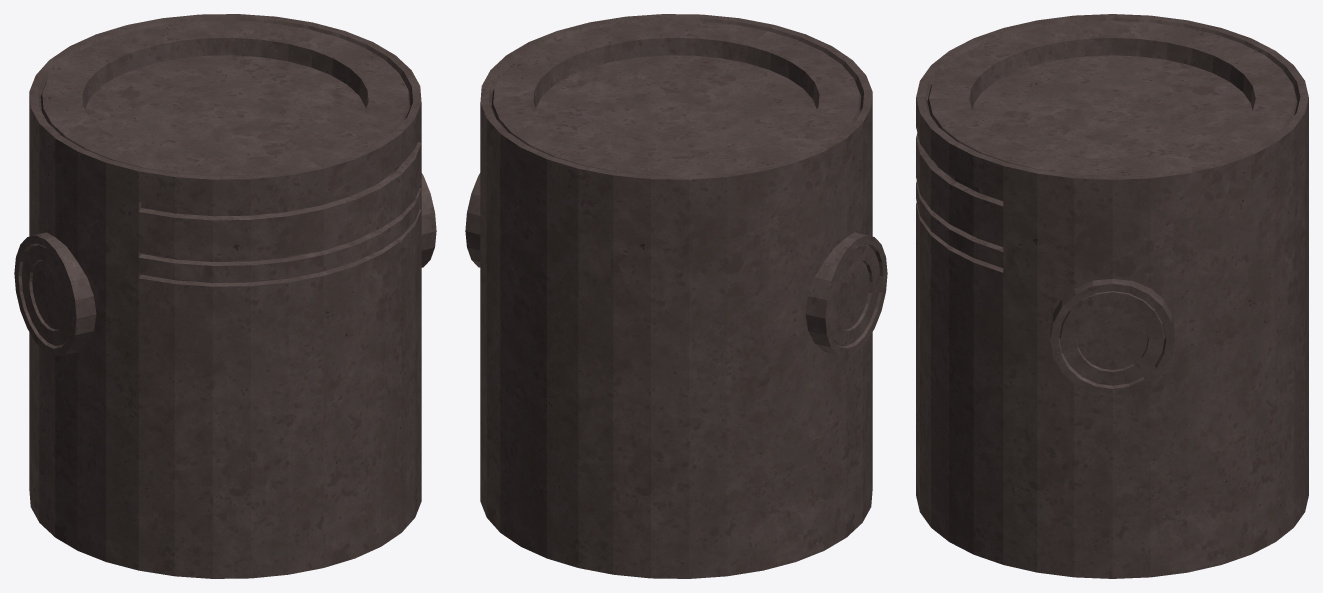
File: MachinePart07.fbx
3 renders of one model, left to right at view 1: azimuth 30°, elevation 25°; view 2: azimuth 150°, elevation 25°; view 3: azimuth 270°, elevation 25°, orthographic.
Visible parts, largest first — view 1: SM_ENV_STRUCT_ScrapYard_MachinePart_20.mo; view 2: SM_ENV_STRUCT_ScrapYard_MachinePart_20.mo; view 3: SM_ENV_STRUCT_ScrapYard_MachinePart_20.mo.
Part boxes in pixels (left/top/right/bottom): SM_ENV_STRUCT_ScrapYard_MachinePart_20.mo: left=14, top=14, right=436, bottom=578; SM_ENV_STRUCT_ScrapYard_MachinePart_20.mo: left=465, top=14, right=887, bottom=578; SM_ENV_STRUCT_ScrapYard_MachinePart_20.mo: left=916, top=14, right=1308, bottom=578.
Bounding box in the file's own units: 614 × 651 × 581.
3 materials, 3 textured.
